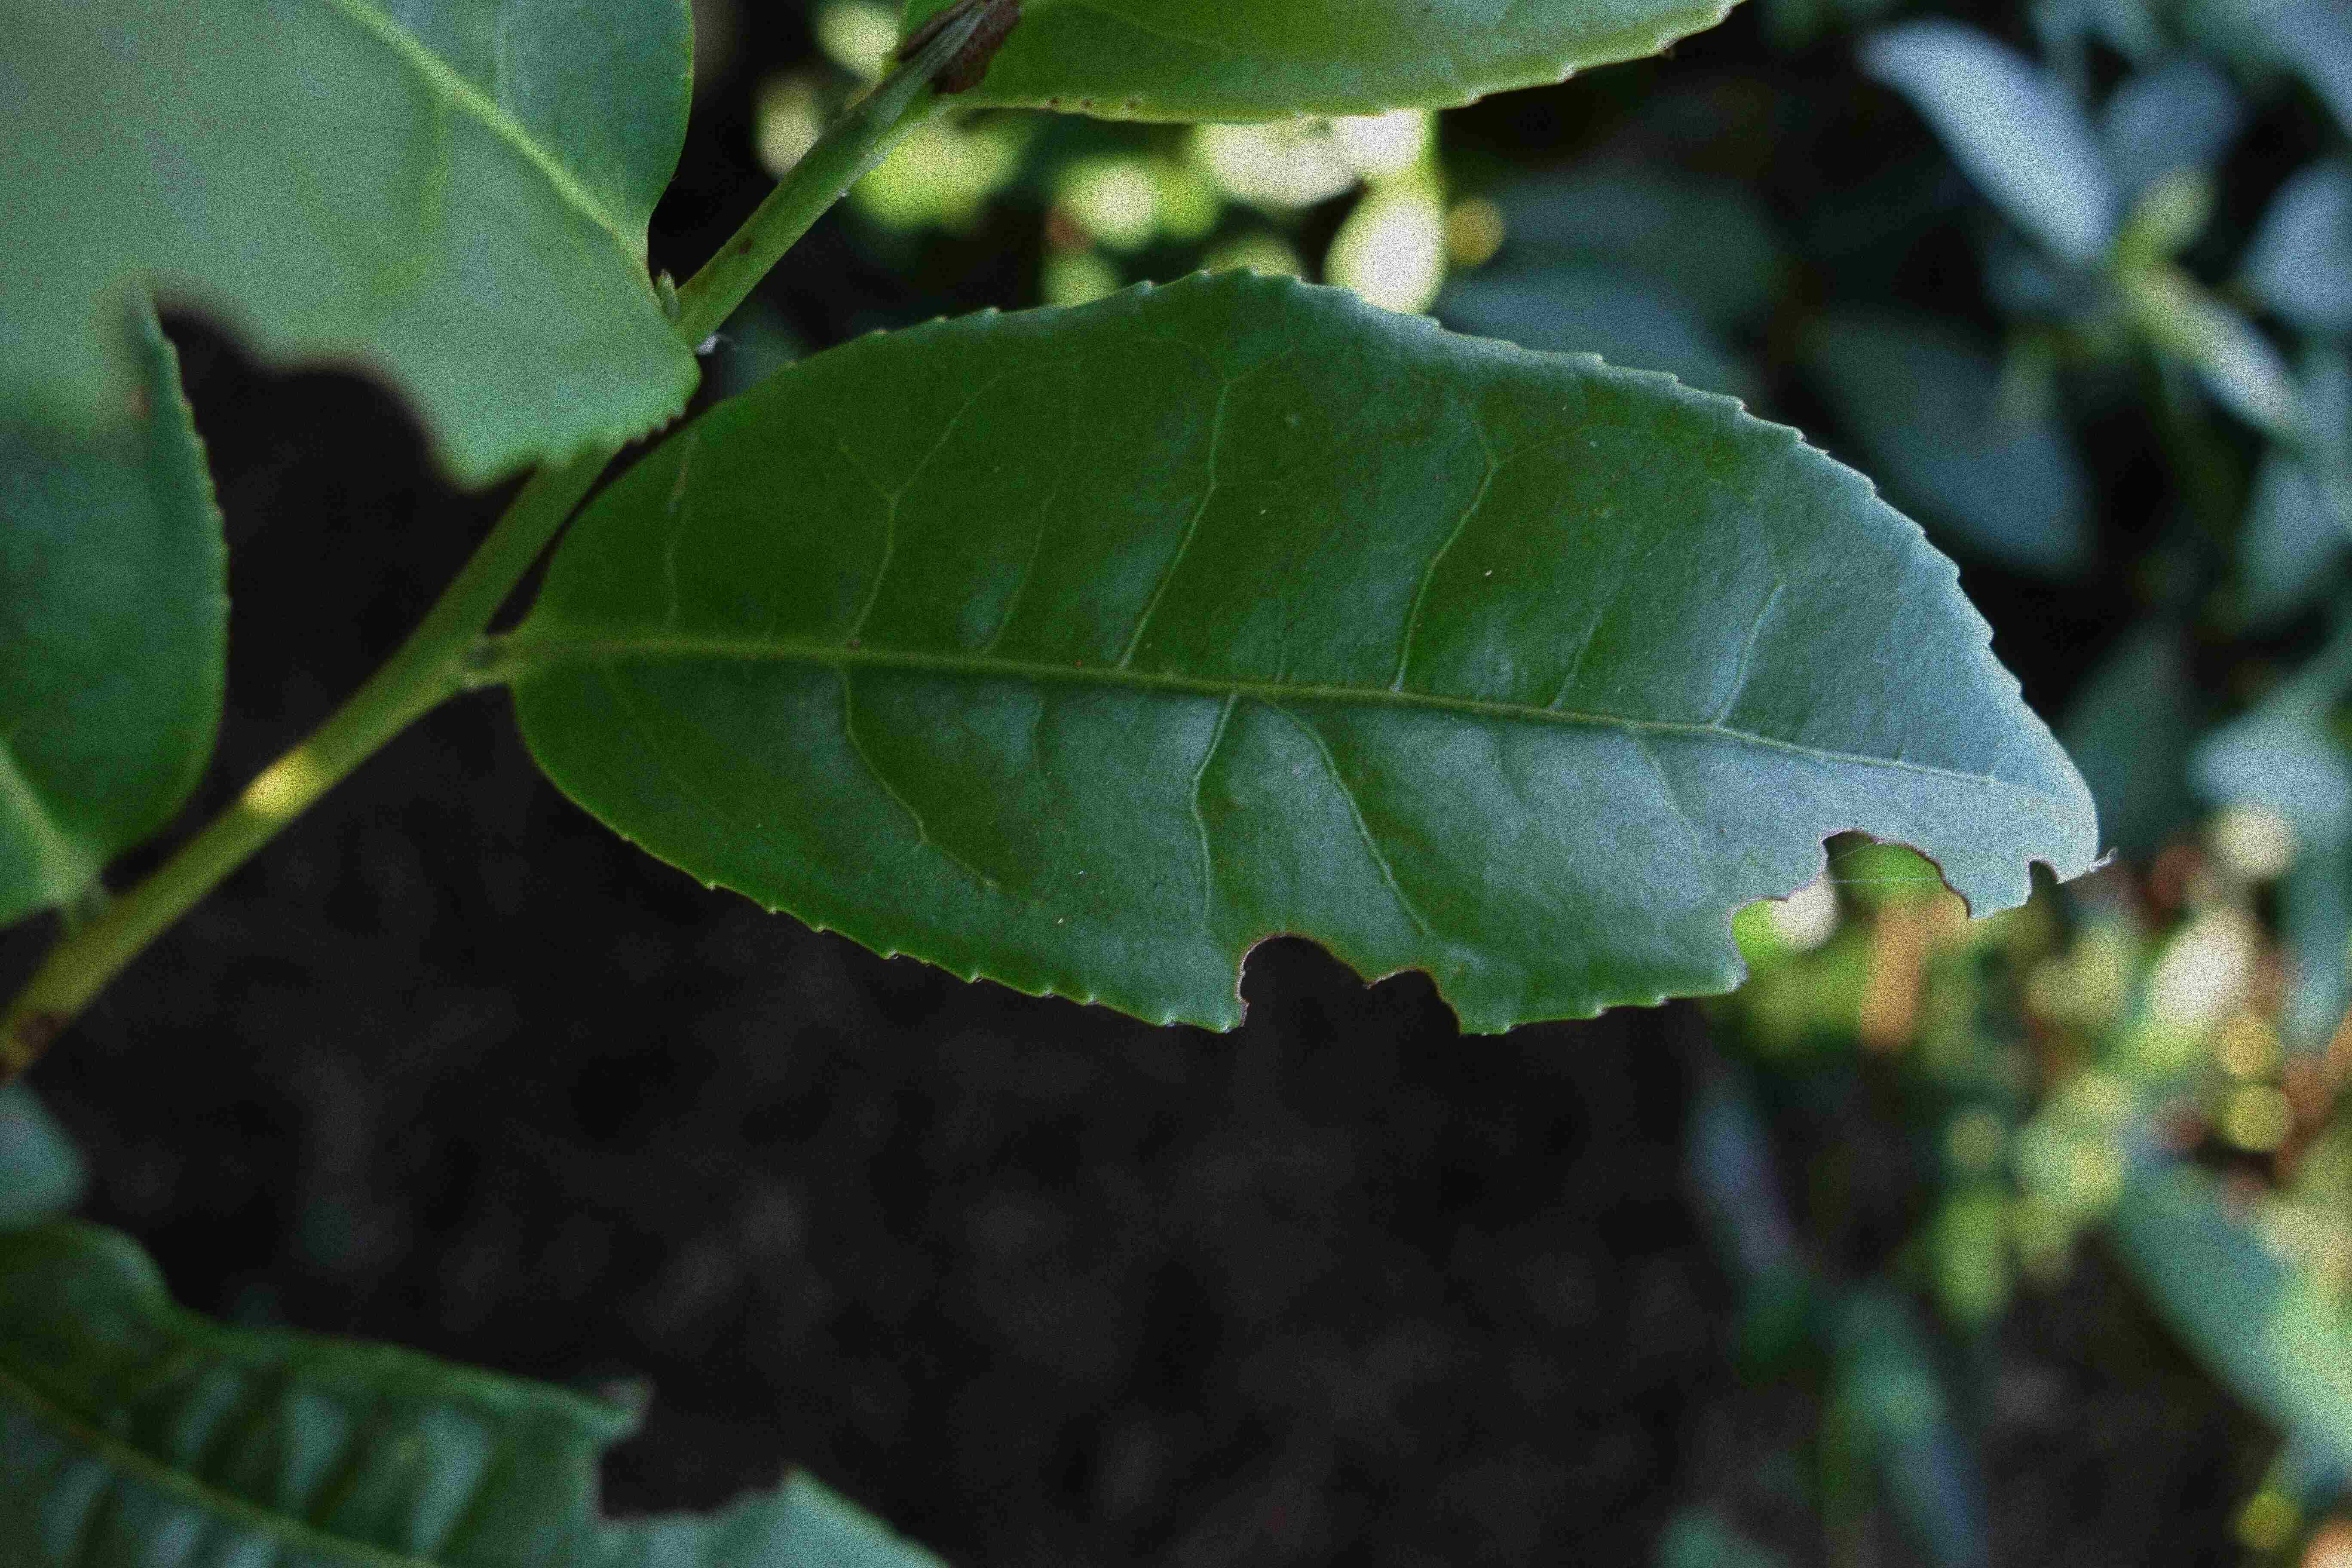chihuo_high: (509, 268, 2107, 1041)
